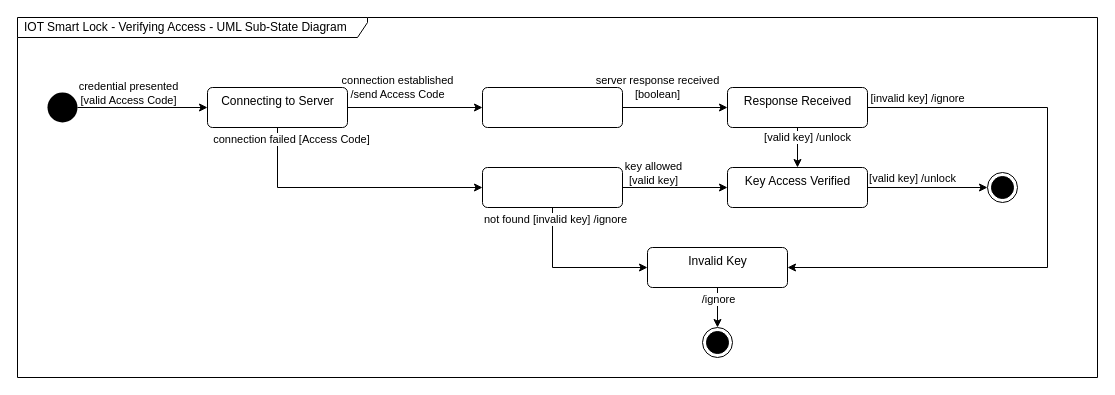
This 1115x395 diagram has some shape labels left out. Here are the shapes that lost their labels. From the top down, the centre of each, then its label:
At point (552, 107): "Waiting".
At point (552, 187): "Checking Internal Records".
